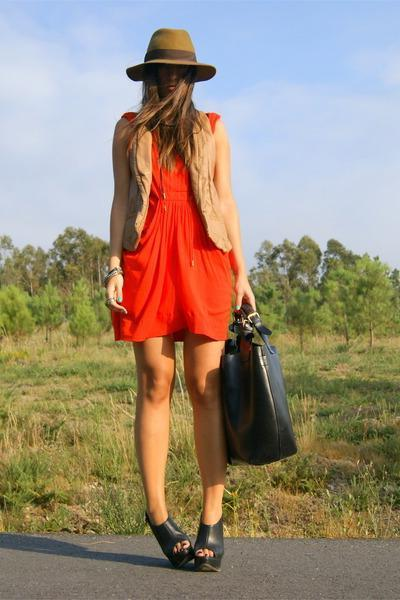dress: (110, 104, 239, 342)
